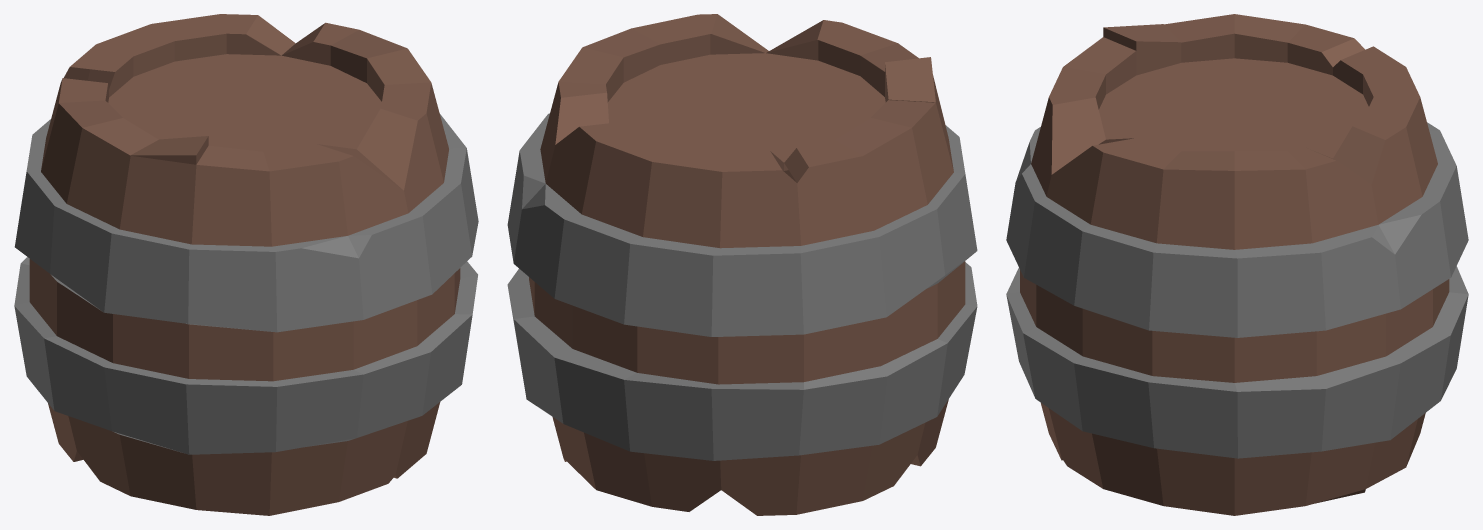
File: barrel.fbx
3 views of the same model, side by side, from view 1: azimuth 30°, elevation 25°; view 2: azimuth 150°, elevation 25°; view 3: azimuth 270°, elevation 25° (orthographic). The views are drawn at different scales.
Visible parts, largest first — view 1: Cylinder; view 2: Cylinder; view 3: Cylinder.
Boxes of the visible parts, bbox=[...] form: Cylinder: bbox=[14, 14, 478, 515]; Cylinder: bbox=[507, 14, 977, 515]; Cylinder: bbox=[1006, 14, 1468, 515].
Bounding box in the file's own units: 249 × 211 × 249.
